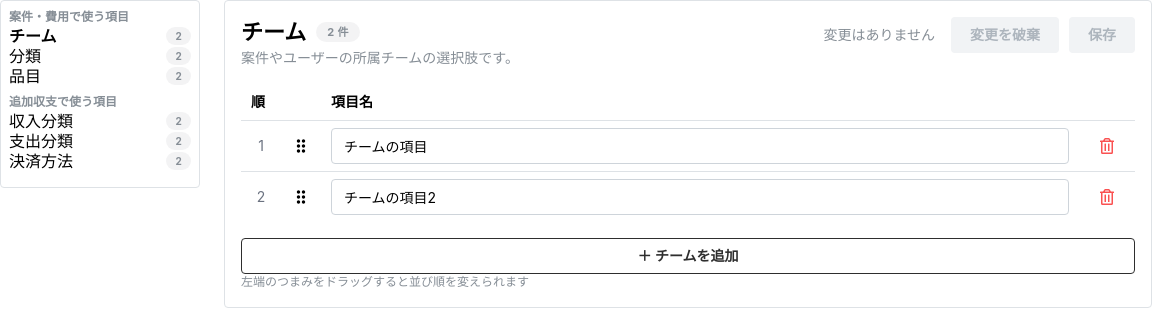
Scenario: OptionsManager › モバイル（768px 未満）の Select › Select（グループ付き）でカテゴリを切り替えられる
Click the field named "編集する項目" at point(576, 154), box [0,0,1151,308]
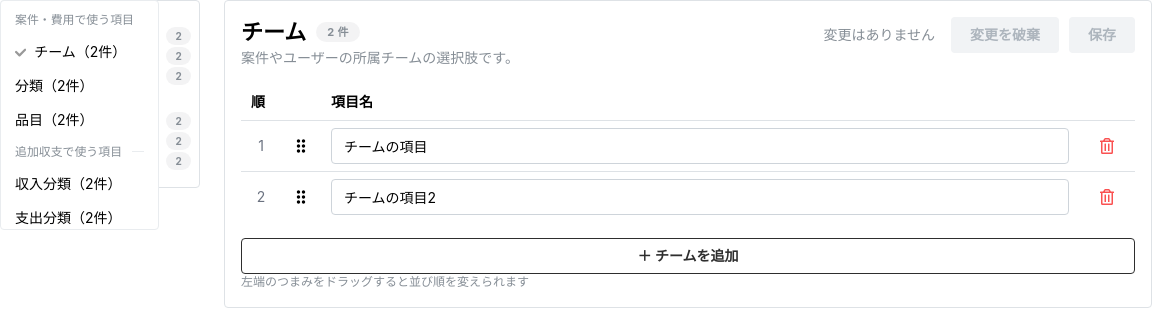
Click the option "品目（2件）" at point(54, 119), box [15,111,94,128]
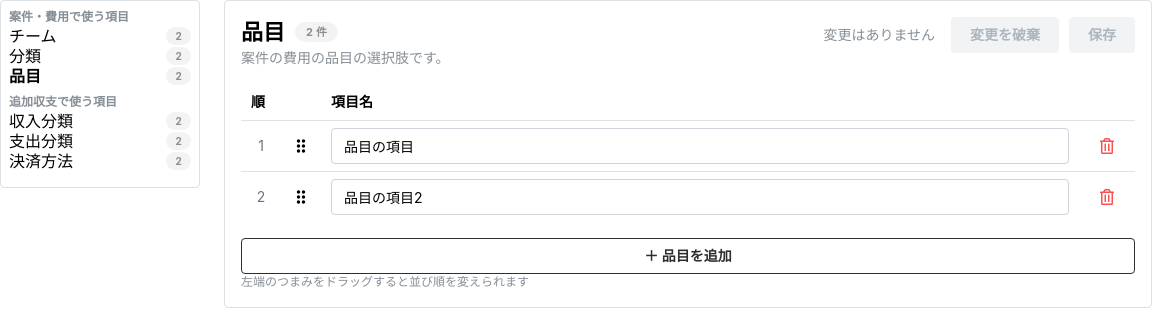
Expected: the field showing "品目の項目" is shown, [331,128,1069,164]
